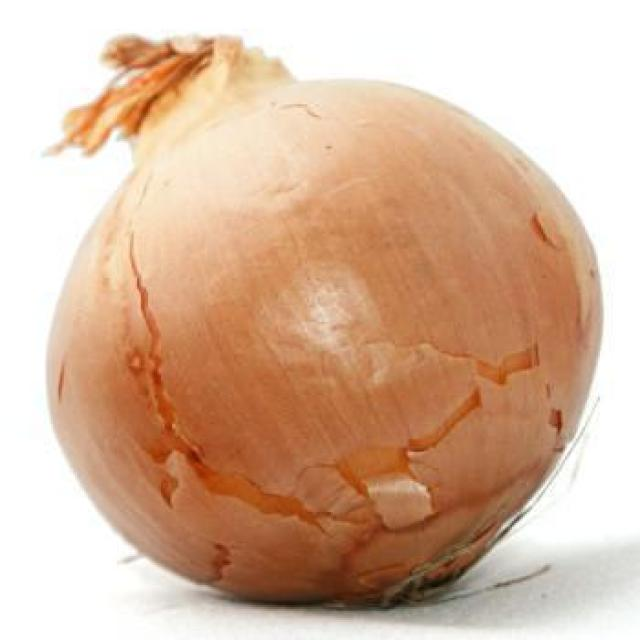Onion: (46, 31, 603, 614)
